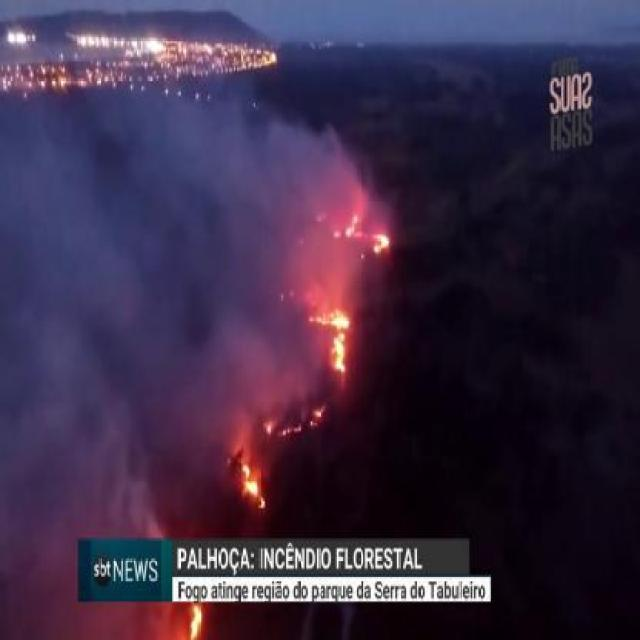Fire: (306, 308, 348, 376), (260, 399, 326, 436), (239, 465, 267, 510), (188, 606, 203, 640), (372, 231, 390, 254), (346, 215, 359, 238)
